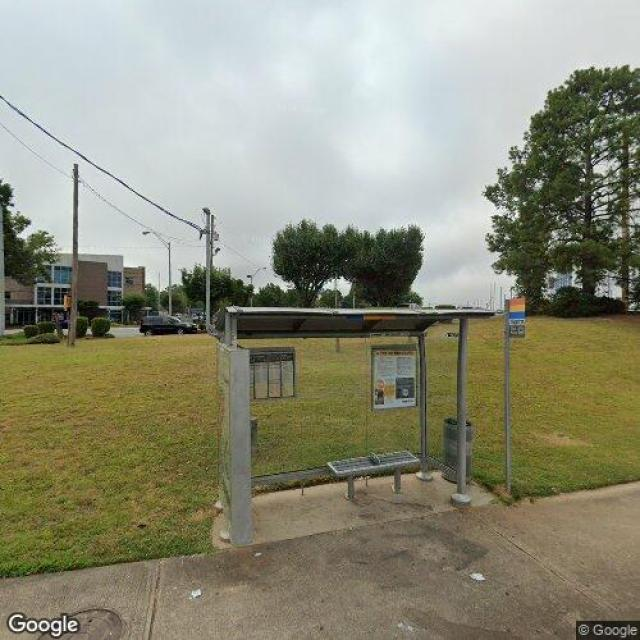seating: (328, 451, 420, 502)
shelter: (210, 306, 497, 550)
trash_can: (442, 416, 472, 485)
